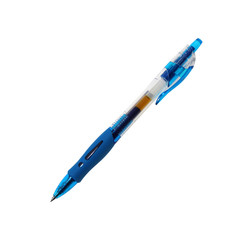pen: (47, 33, 205, 204)
